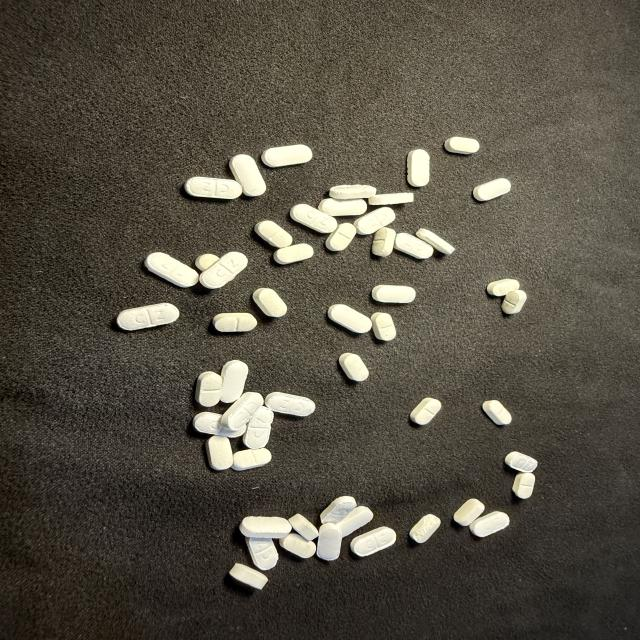pill: (145, 253, 198, 287), (200, 252, 247, 289), (117, 303, 179, 330), (221, 392, 263, 430), (230, 155, 266, 196), (290, 204, 337, 233), (351, 527, 396, 556), (193, 412, 245, 437), (184, 177, 242, 199), (243, 406, 273, 448), (328, 305, 372, 333), (265, 392, 315, 416), (221, 360, 248, 402), (336, 506, 373, 536), (262, 145, 312, 167), (355, 207, 395, 234), (240, 517, 291, 538), (246, 537, 278, 570), (255, 220, 292, 248), (416, 229, 455, 255), (395, 233, 433, 259), (253, 288, 287, 317), (470, 512, 509, 537), (229, 564, 267, 589), (321, 496, 356, 523), (317, 523, 342, 560), (279, 533, 316, 558), (206, 436, 233, 470), (196, 372, 222, 407), (326, 222, 356, 252), (409, 514, 440, 543), (407, 149, 430, 187), (319, 198, 367, 216), (232, 448, 271, 470), (339, 353, 369, 381), (410, 398, 441, 425), (473, 179, 511, 201), (213, 313, 257, 332), (454, 499, 484, 526), (274, 244, 313, 264), (372, 285, 415, 303), (289, 514, 318, 540), (483, 400, 511, 425), (372, 227, 396, 256), (371, 313, 396, 340), (330, 185, 376, 199), (505, 452, 537, 472), (444, 137, 479, 154), (502, 290, 526, 314), (513, 473, 535, 498), (487, 279, 519, 296), (369, 193, 413, 205), (195, 254, 219, 271)
